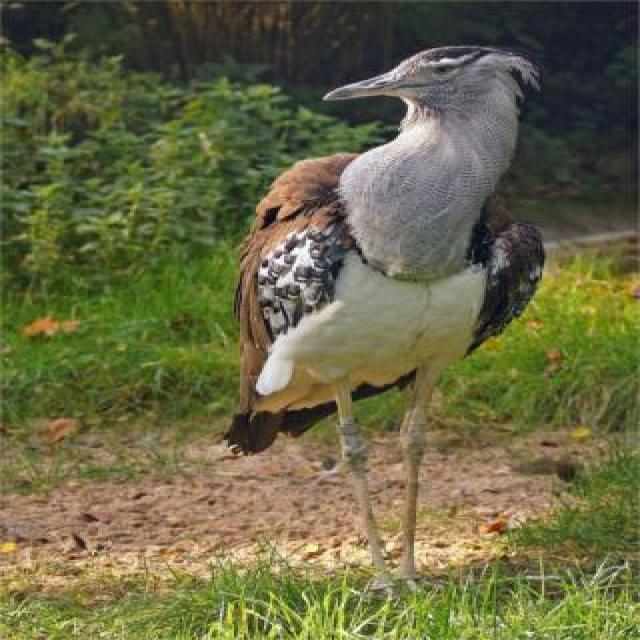birds: (215, 34, 555, 604)
